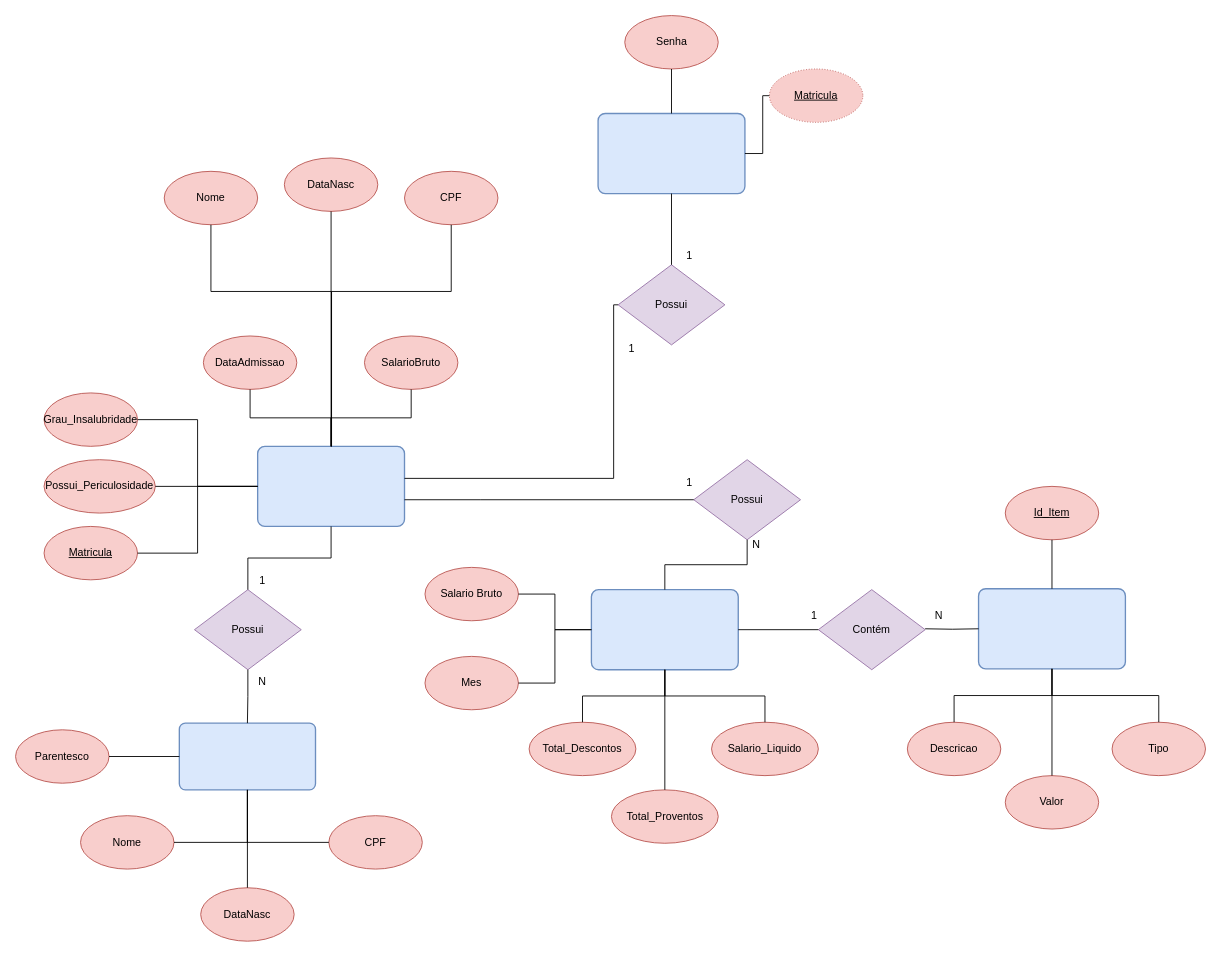
The diagram is 1221 pixels wide and 957 high, and some of its shapes have lost their labels. Here are the shapes that lost their labels. From the top down, the centre of each, then its label:
At pixel 671 153: "Login".
At pixel 331 486: "Funcionario".
At pixel 664 629: "Folha de Pagamento".
At pixel 1051 628: "Item Folha".
At pixel 247 756: "Dependente".
